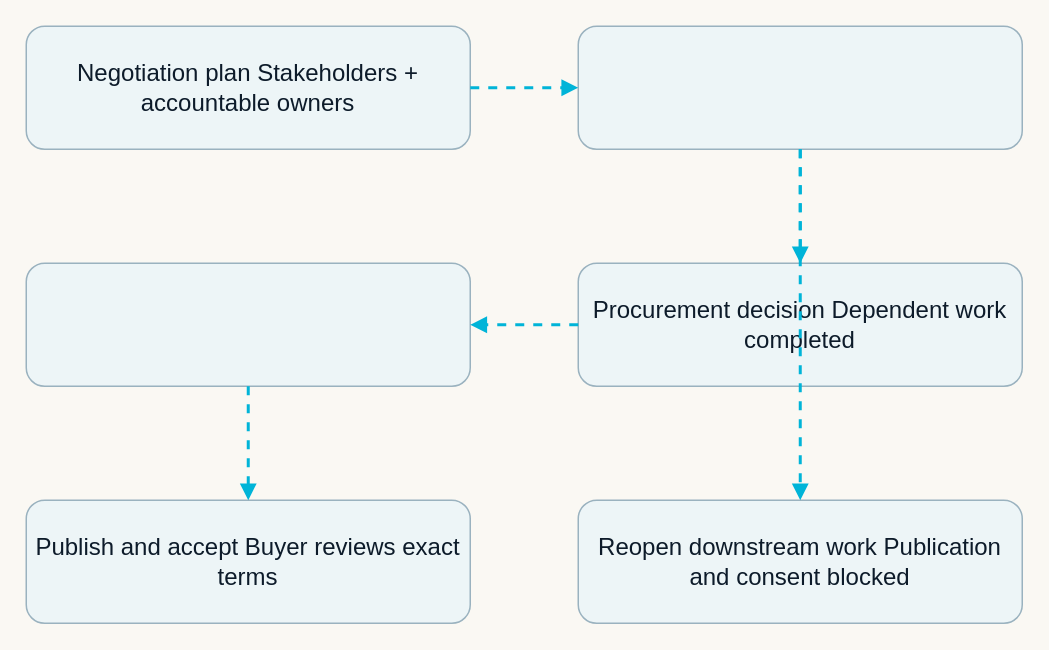
Some shapes in this 1049 by 650 pixel diagram are drawn without their labels. Each missing label, with the centre of its shape:
Quote approvals Current commercial evidence: point (247, 324)
Upstream review Evidence for procurement: point (799, 87)
